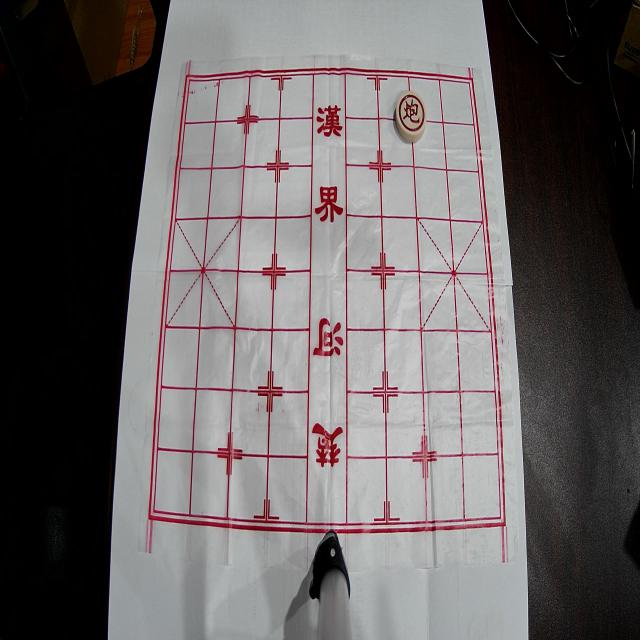red-cannon: (396, 91, 426, 142)
